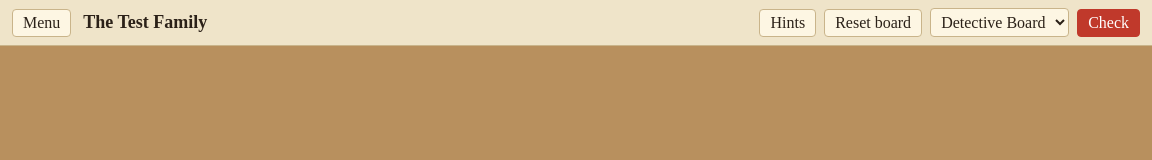
StatusBar › hint toggles reveal progress and mistakes
Click the button "Hints" at (788,22), box left=760, top=8, right=816, bottom=36
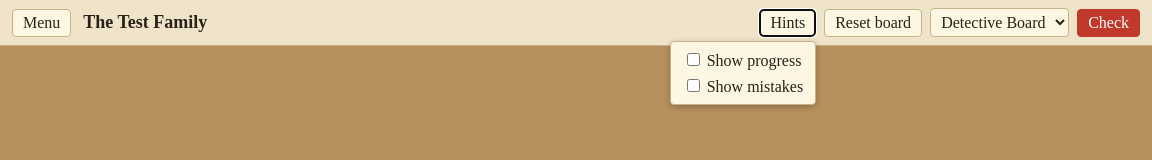
Click the checkbox labelled "Show progress" at (693,59), box left=687, top=52, right=700, bottom=66
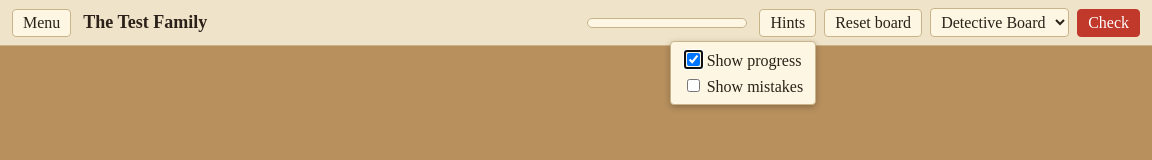
Click the checkbox labelled "Show mistakes" at (693,85), box left=687, top=78, right=700, bottom=92
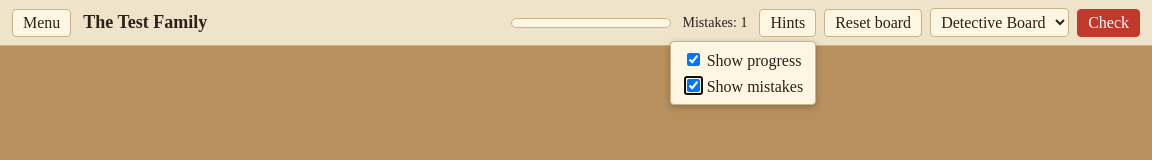
expect the text "Mistakes: 1" is shown: met, box left=682, top=14, right=748, bottom=30
